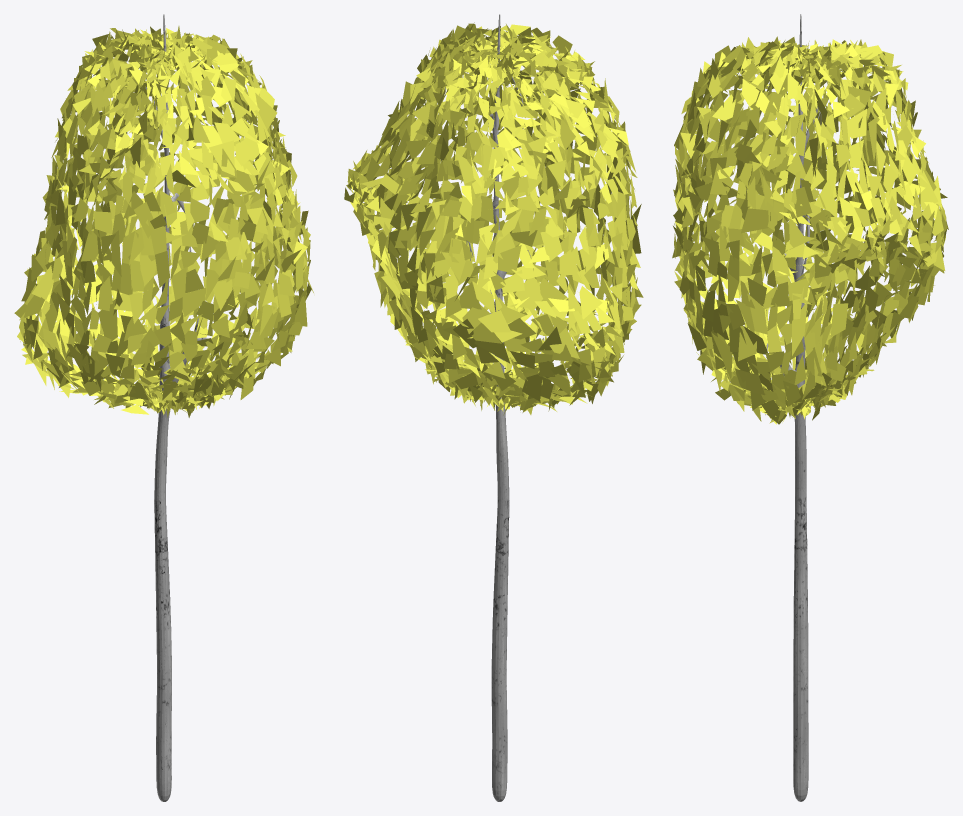
File: Leaves54.fbx
The picture shows the model from 3 angles, left to right: view 1: azimuth 30°, elevation 25°; view 2: azimuth 150°, elevation 25°; view 3: azimuth 270°, elevation 25°; orthographic projection.
Parts seen in each view (by area): view 1: Leaves54; view 2: Leaves54; view 3: Leaves54.
Part boxes in pixels (x1,y1,x2,y2): Leaves54: (14, 14, 313, 801); Leaves54: (344, 14, 643, 801); Leaves54: (672, 14, 948, 801).
Bounding box in the file's own units: 903 × 2574 × 820.
2 materials, 1 textured.
